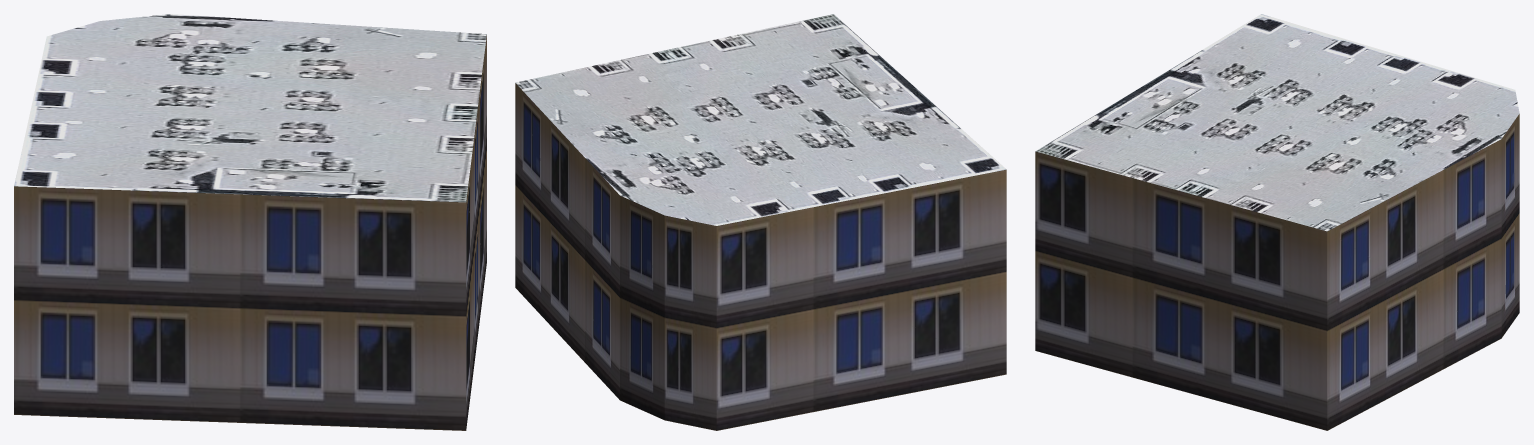
Rendered from ResTex__3343.fbx.
3 views of the same model, side by side, from view 1: azimuth 30°, elevation 25°; view 2: azimuth 150°, elevation 25°; view 3: azimuth 270°, elevation 25° (orthographic). The views are drawn at different scales.
Parts seen in each view (by area): view 1: CityEngineMaterial_5_m, CityEngineMaterial_8_m; view 2: CityEngineMaterial_5_m, CityEngineMaterial_8_m; view 3: CityEngineMaterial_5_m, CityEngineMaterial_8_m.
Boxes of the visible parts, x1,y1,x2,y2 form: CityEngineMaterial_5_m: (14,35,486,430); CityEngineMaterial_8_m: (14,14,486,202); CityEngineMaterial_5_m: (515,83,1006,430); CityEngineMaterial_8_m: (515,14,1006,225); CityEngineMaterial_5_m: (1035,114,1519,430); CityEngineMaterial_8_m: (1035,14,1519,231).
Size of the model in its own units: 14.03 by 6 by 13.2.
2 materials, 2 textured.
